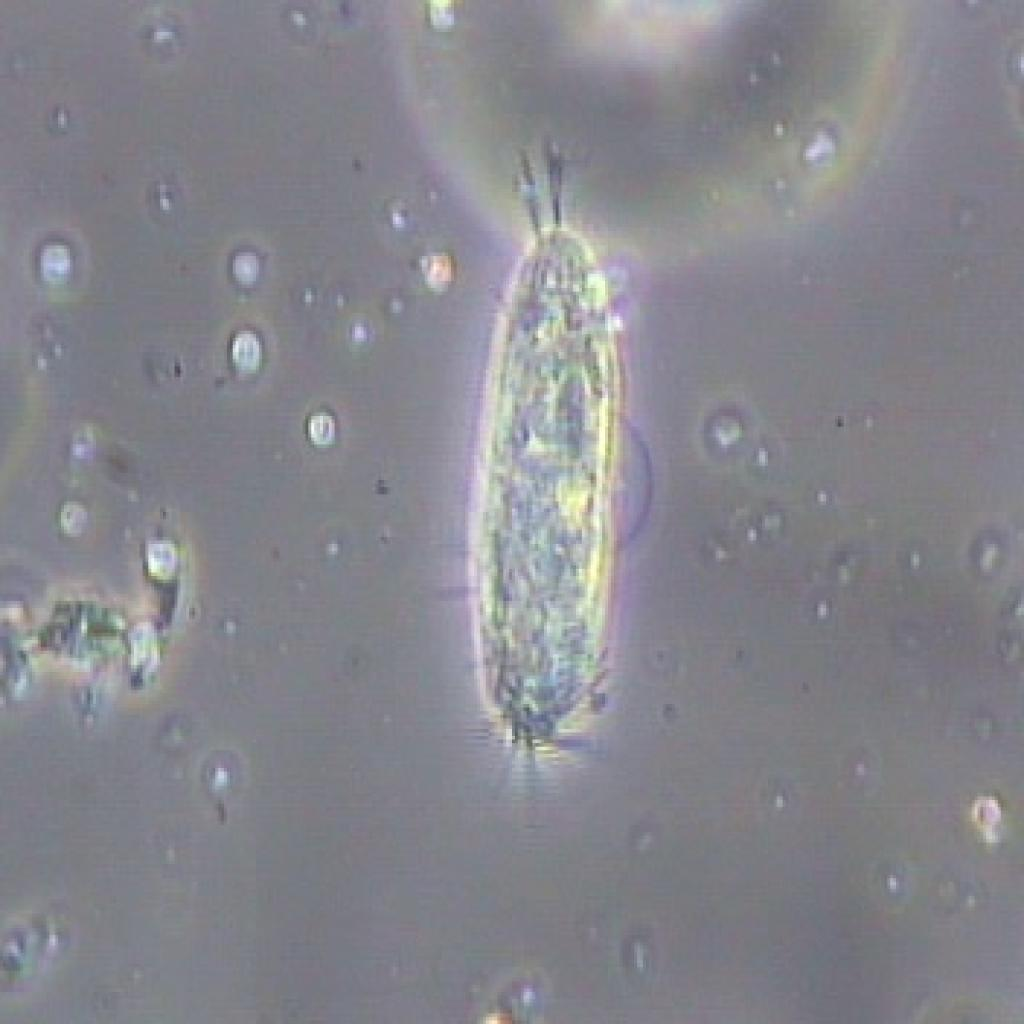Stylonychia: (429, 178, 671, 789)
